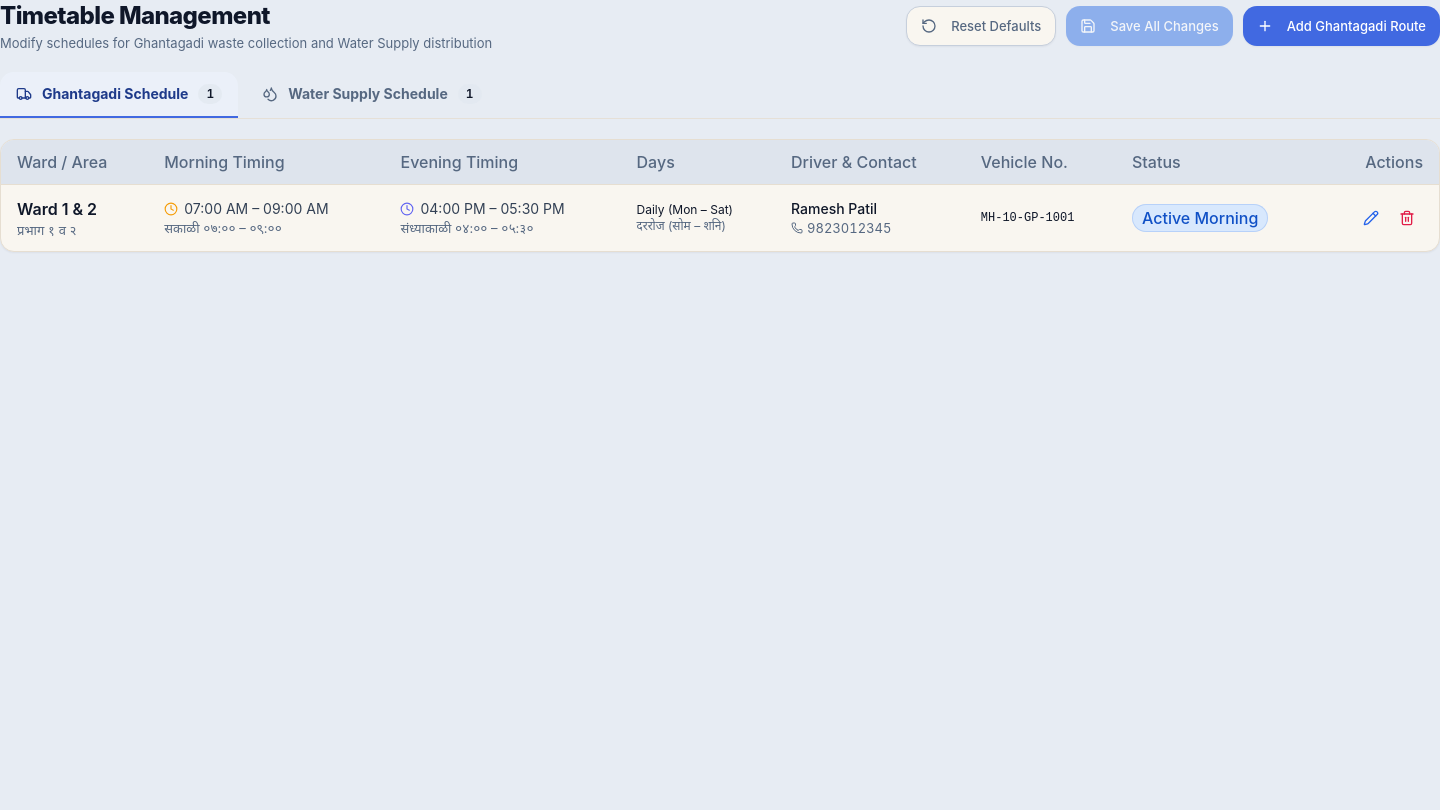
Scenario: TimetableAdmin › opens edit dialog when clicking edit on a row
Click the button named "edit": coordinates (1371, 218) [1355,202,1387,234]
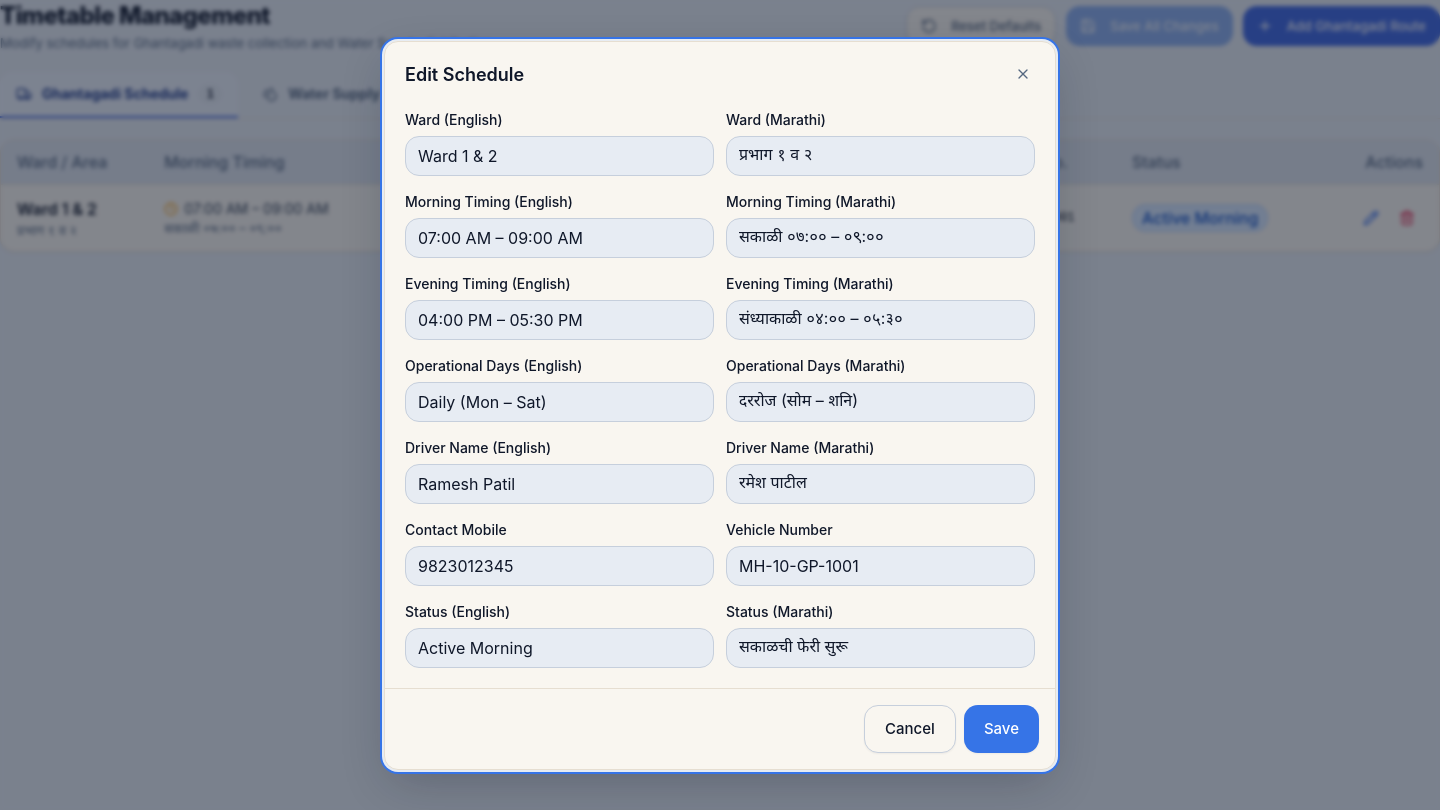
Result: the dialog is shown at [384,40,1056,770]
Result: the field showing "Ramesh Patil" is shown at [405,464,714,504]
